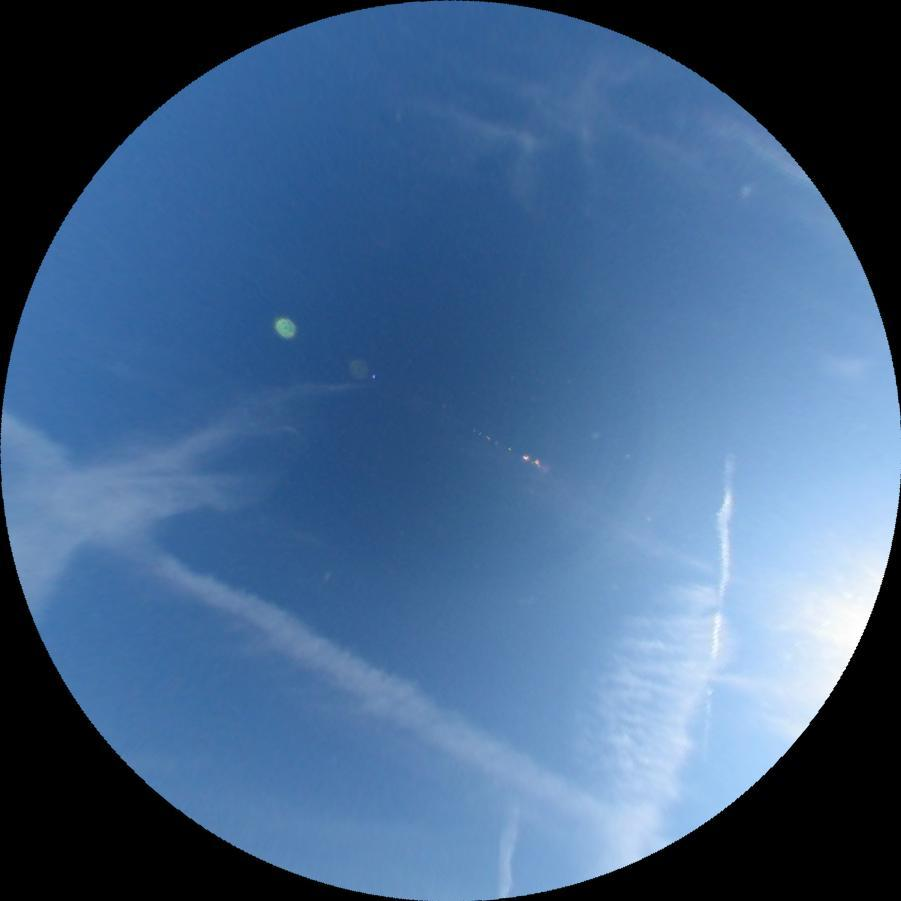contrail old: (701, 451, 738, 759), (488, 820, 521, 901)
contrail veryold: (84, 511, 613, 843), (532, 557, 755, 892)
